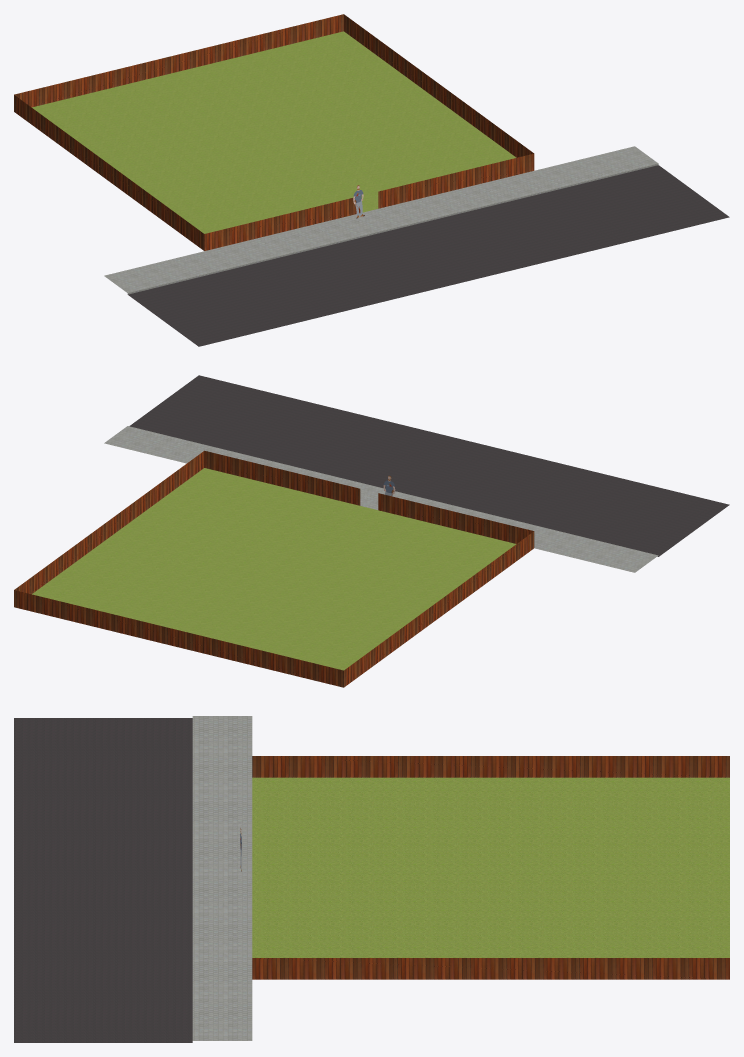
The model's file is House_Base.glb.
3 renders of one model, top to bottom at view 1: azimuth 30°, elevation 25°; view 2: azimuth 150°, elevation 25°; view 3: azimuth 270°, elevation 25°, orthographic. The views are drawn at different scales.
Parts seen in each view (by area): view 1: ID478, ID465, SketchUp, ID452; view 2: ID478, ID465, SketchUp, ID452; view 3: ID478, ID465, SketchUp, ID452.
Part boxes in pixels (x1=…): ID478: x1=32, y1=31, x2=516, y2=233; ID465: x1=128, y1=165, x2=729, y2=346; SketchUp: x1=14, y1=14, x2=534, y2=250; ID452: x1=104, y1=146, x2=658, y2=294; ID478: x1=32, y1=468, x2=516, y2=670; ID465: x1=129, y1=375, x2=729, y2=556; SketchUp: x1=14, y1=450, x2=534, y2=687; ID452: x1=104, y1=426, x2=658, y2=572; ID478: x1=252, y1=777, x2=729, y2=957; ID465: x1=14, y1=718, x2=192, y2=1042; SketchUp: x1=252, y1=756, x2=729, y2=979; ID452: x1=192, y1=716, x2=252, y2=1040.
Size of the model in its own units: 32.2 by 2 by 29.98.
70 materials, 4 textured.
